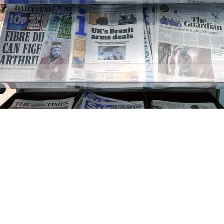news_paper: (73, 0, 151, 83), (0, 0, 75, 83), (148, 1, 223, 82), (72, 88, 148, 109), (8, 95, 75, 110), (149, 97, 218, 110)
